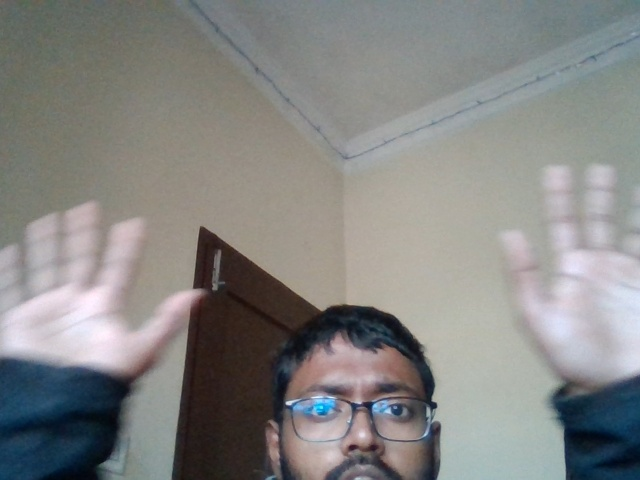Hello: (4, 208, 208, 387), (491, 158, 640, 371)
